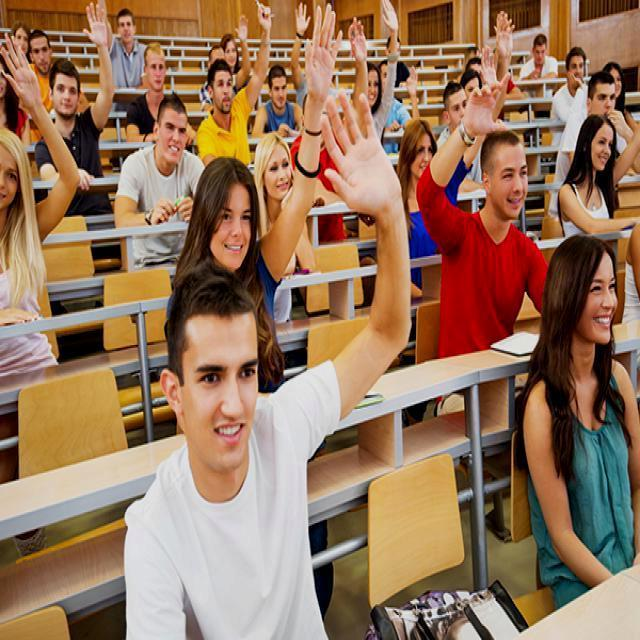Looking forward: (183, 311, 260, 474), (210, 185, 254, 274), (489, 138, 530, 222), (582, 255, 616, 342), (157, 107, 190, 166), (266, 144, 294, 198), (51, 74, 82, 121), (208, 68, 236, 115), (590, 126, 614, 176), (411, 132, 434, 178), (268, 72, 289, 114), (564, 52, 586, 88), (148, 52, 166, 90), (118, 13, 136, 43)
